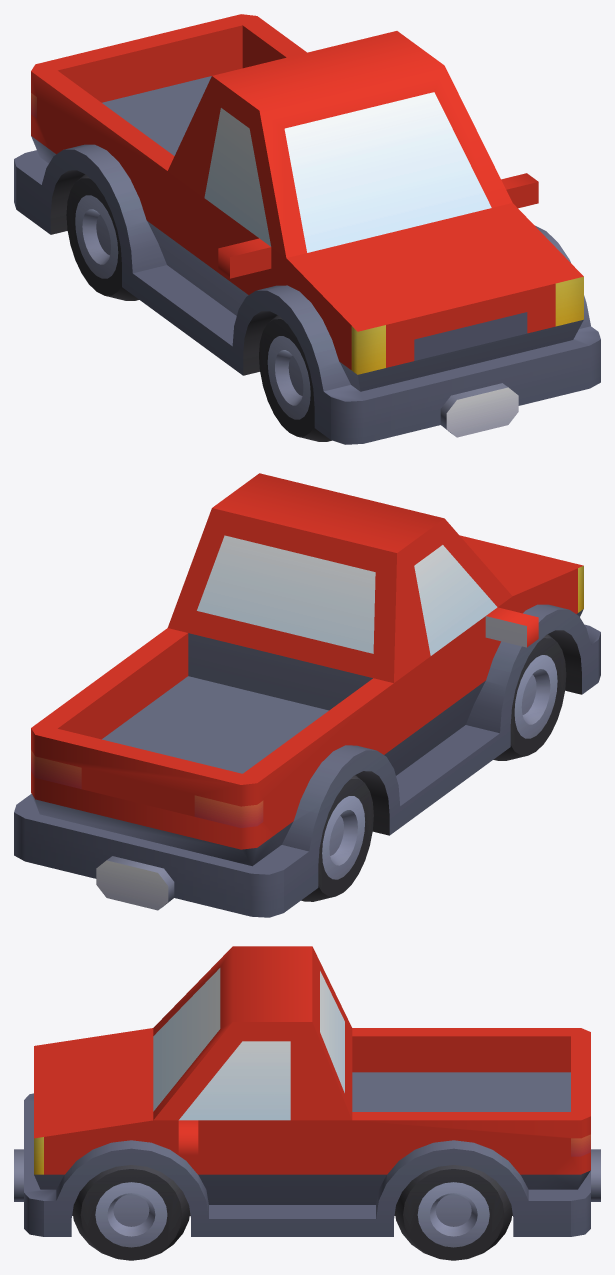
The model's file is truck1.glb.
The picture shows the model from 3 angles, top to bottom: view 1: azimuth 30°, elevation 25°; view 2: azimuth 150°, elevation 25°; view 3: azimuth 270°, elevation 25°; orthographic projection. The views are drawn at different scales.
Parts seen in each view (by area): view 1: body.001, body, wheel-front-right, wheel-back-right; view 2: body, body.001, wheel-front-right, wheel-back-right; view 3: body.001, body, wheel-back-left, wheel-front-left.
Boxes of the visible parts, x1,y1,x2,y2 form: body.001: (31,14,583,369); body: (14,76,600,444); wheel-front-right: (259,315,331,441); wheel-back-right: (66,174,138,300); body: (14,535,600,917); body.001: (31,473,583,849); wheel-front-right: (493,634,566,760); wheel-back-right: (301,775,373,901); body.001: (34,946,590,1174); body: (14,968,600,1236); wheel-back-left: (395,1165,512,1260); wheel-front-left: (72,1165,189,1260).
Bounding box in the file's own units: 1.5 × 1.3 × 2.95.
2 materials, 1 textured.
